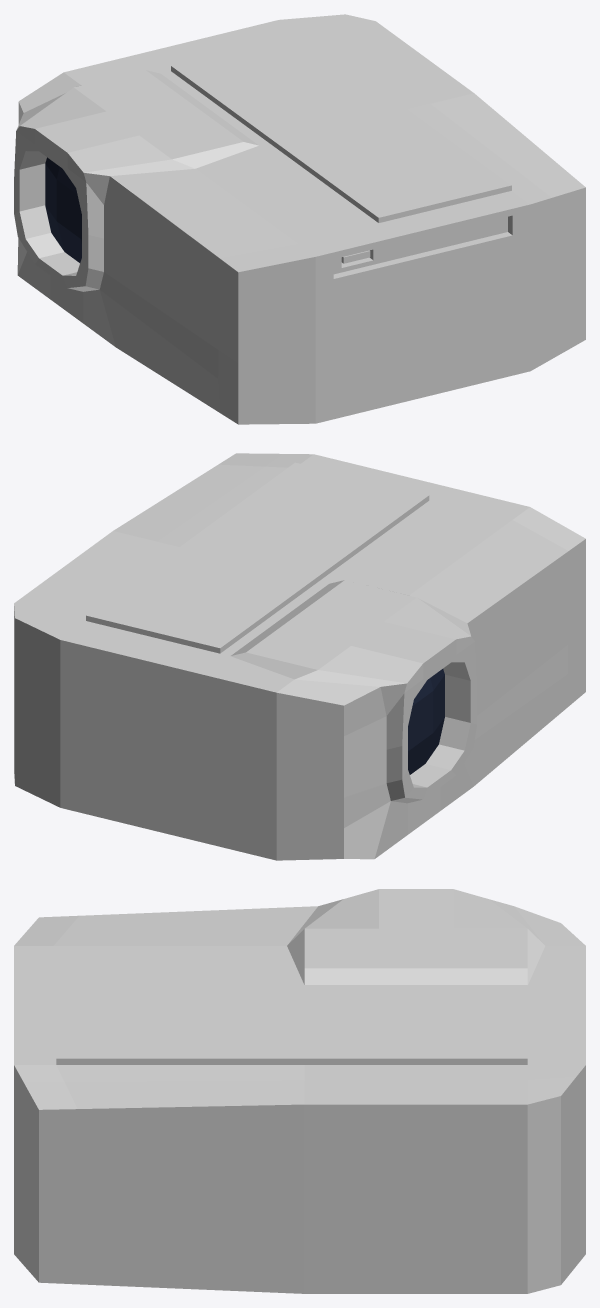
Rendered from projector.fbx.
3 views of the same model, one above another, from view 1: azimuth 30°, elevation 25°; view 2: azimuth 150°, elevation 25°; view 3: azimuth 270°, elevation 25° (orthographic). The views are drawn at different scales.
Parts seen in each view (by area): view 1: Projector; view 2: Projector; view 3: Projector.
Boxes of the visible parts, x1,y1,x2,y2 form: Projector: [14, 14, 585, 424]; Projector: [14, 453, 585, 860]; Projector: [14, 889, 585, 1293].
Size of the model in its own units: 476 by 212 by 556.
